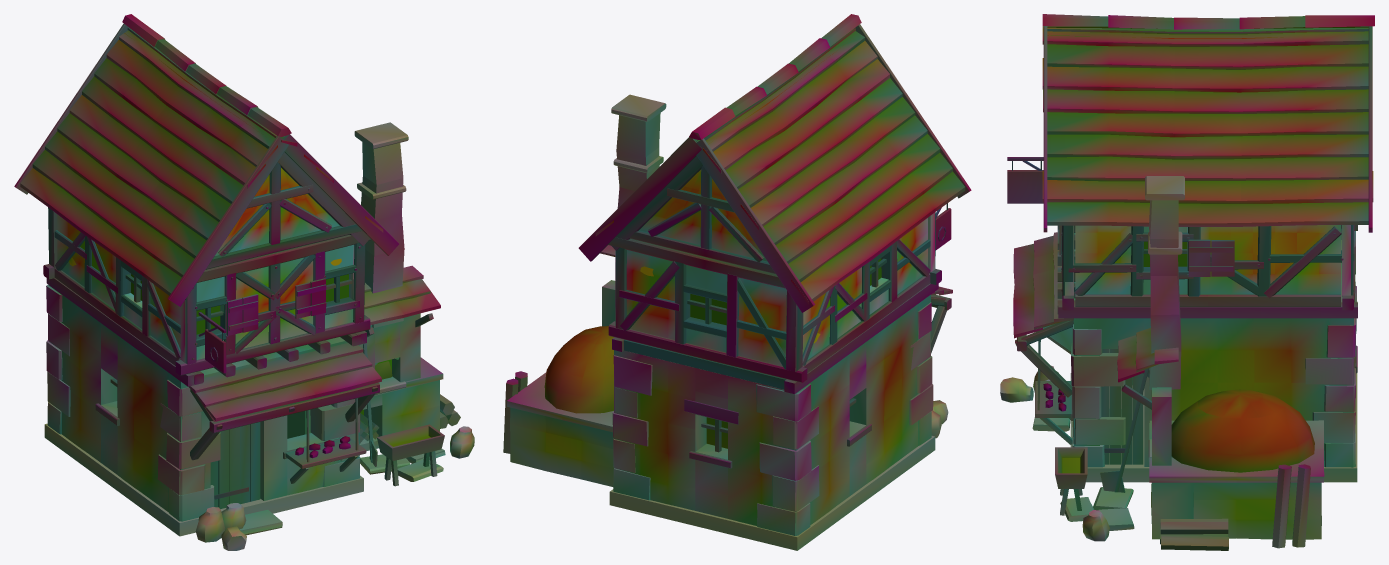
File: bakery.glb
3 renders of one model, left to right at view 1: azimuth 30°, elevation 25°; view 2: azimuth 150°, elevation 25°; view 3: azimuth 270°, elevation 25°, orthographic. The views are drawn at different scales.
Visible parts, largest first — view 1: bakery_LOD0; view 2: bakery_LOD0; view 3: bakery_LOD0.
Boxes of the visible parts, x1,y1,x2,y2 form: bakery_LOD0: [14, 14, 474, 550]; bakery_LOD0: [503, 14, 971, 550]; bakery_LOD0: [1000, 14, 1374, 550].
Size of what is drawn, in the model's own units: 3.27 by 3.55 by 2.88.
